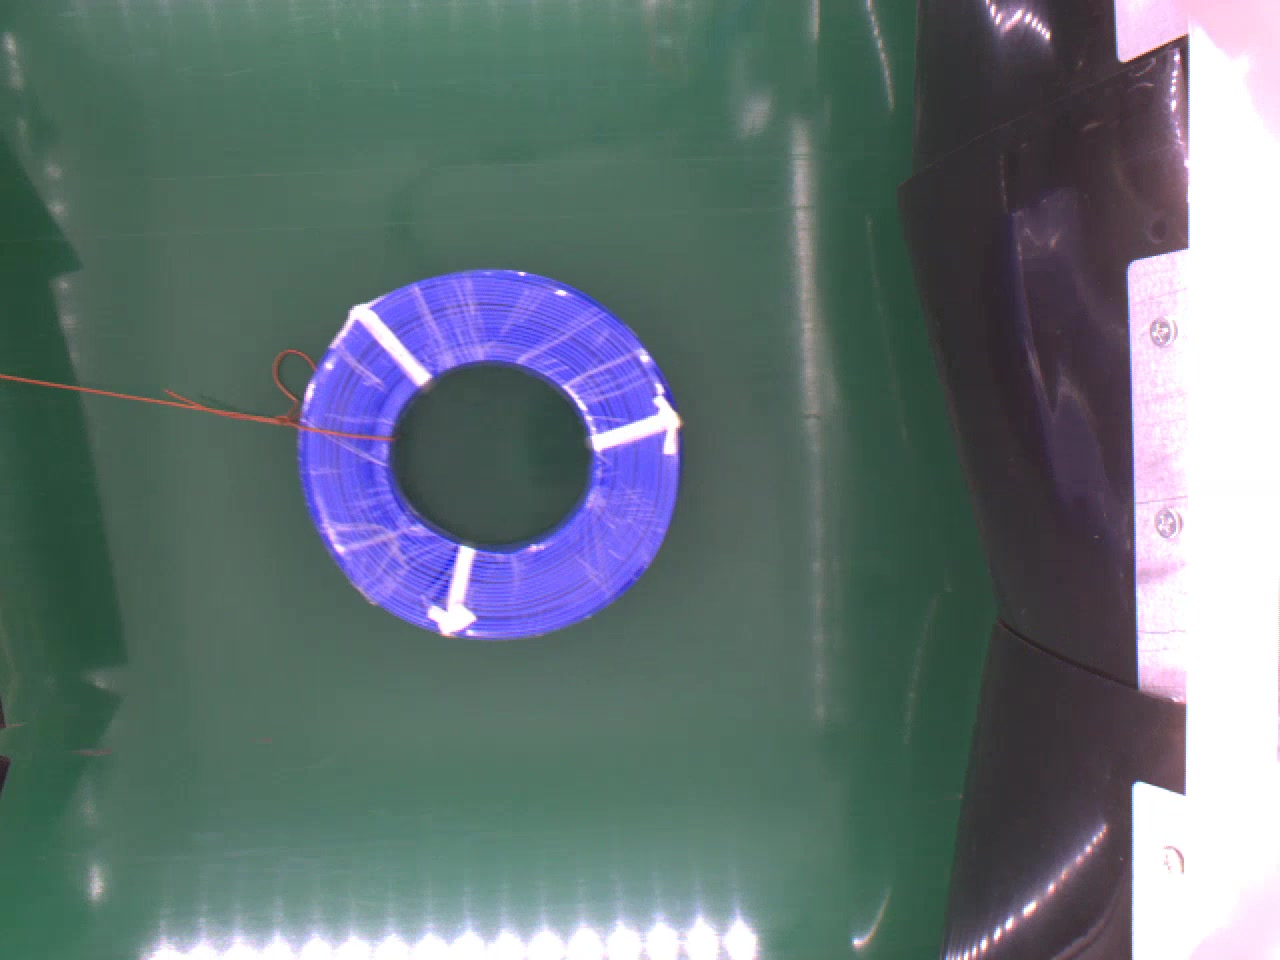blue: (295, 266, 676, 634)
